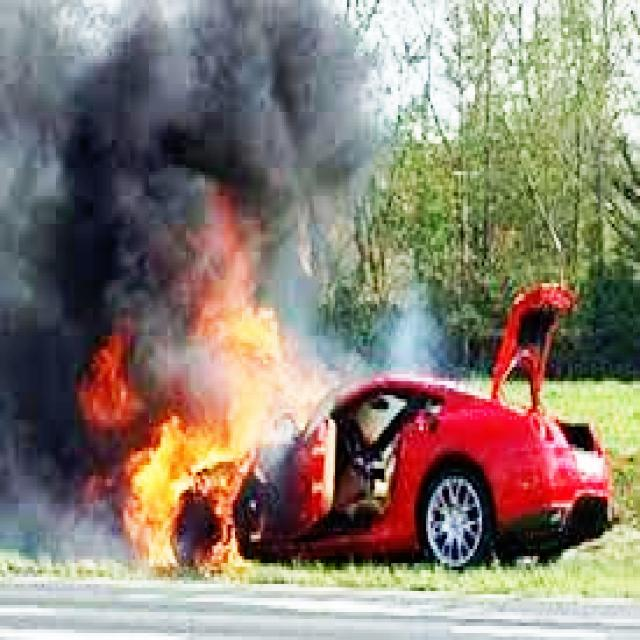api: (87, 169, 334, 585)
